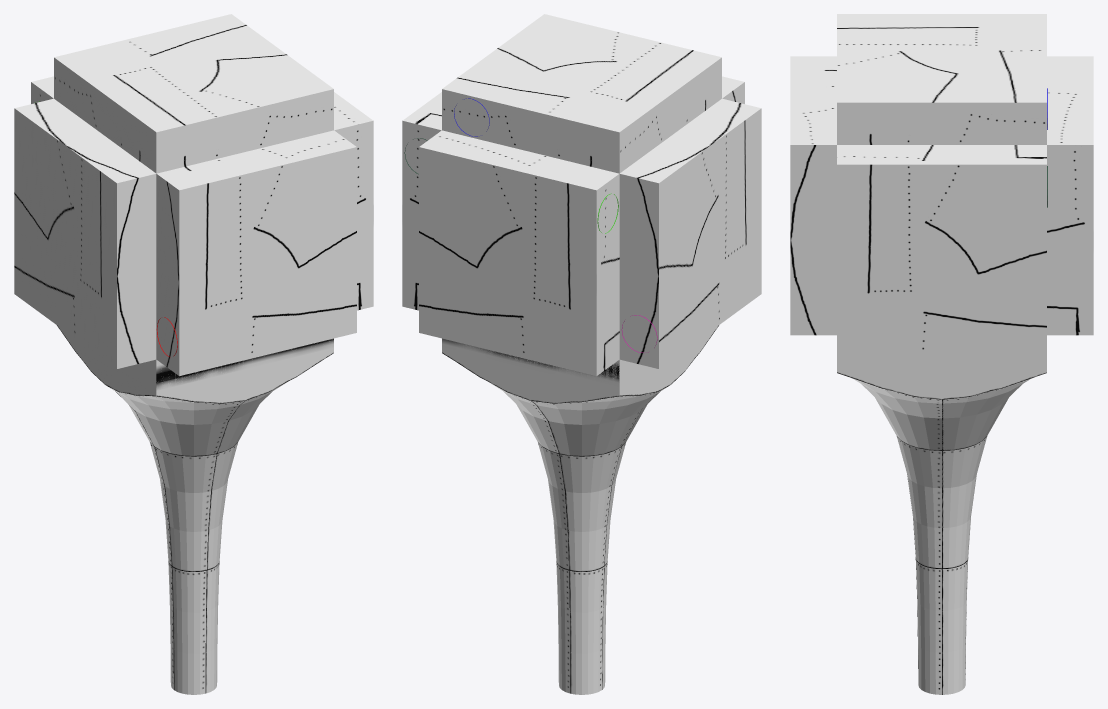
Rendered from decoration.fbx.
3 renders of one model, left to right at view 1: azimuth 30°, elevation 25°; view 2: azimuth 150°, elevation 25°; view 3: azimuth 270°, elevation 25°, orthographic. The views are drawn at different scales.
Parts seen in each view (by area): view 1: cuarto, tobogan, piso; view 2: cuarto, tobogan, piso; view 3: cuarto, tobogan, piso.
Part boxes in pixels (<box>): cuarto: <box>14,14,373,376</box>; tobogan: <box>57,325,333,694</box>; piso: <box>124,339,332,390</box>; cuarto: <box>402,14,761,376</box>; tobogan: <box>442,325,718,694</box>; piso: <box>455,345,651,390</box>; cuarto: <box>790,14,1093,354</box>; tobogan: <box>837,355,1046,694</box>; piso: <box>839,355,1046,367</box>.
Size of the model in its own units: 1300 by 2963 by 1300.
